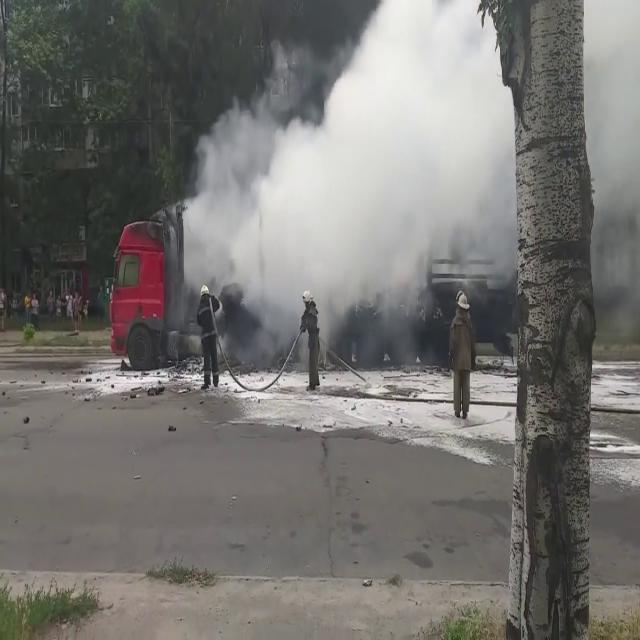Smoke: (178, 0, 517, 343), (581, 0, 640, 341)
